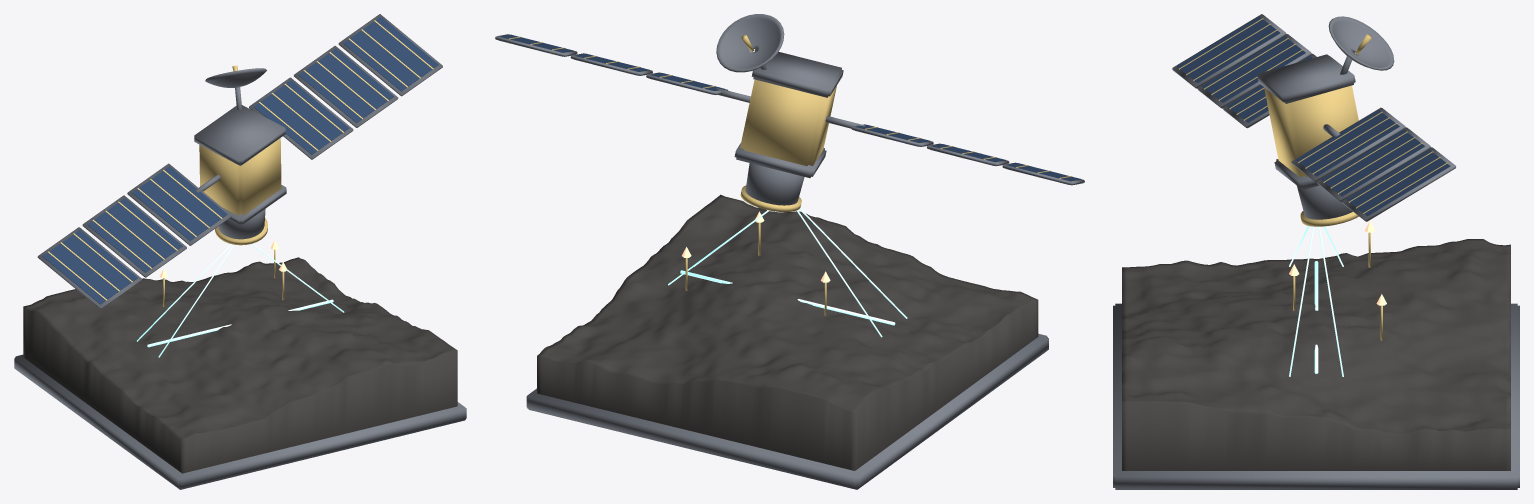
Rendered from artifact-geospatial.glb.
3 renders of one model, left to right at view 1: azimuth 30°, elevation 25°; view 2: azimuth 150°, elevation 25°; view 3: azimuth 270°, elevation 25°, orthographic. The views are drawn at different scales.
Parts seen in each view (by area): view 1: Basalt_Terrain, Terrain_Base, Sat_Bus_Core, Solar_Cells_+1_1, Solar_Cells_-1_1, Solar_Cells_+1_2, Solar_Cells_-1_2, Solar_Cells_-1_0, Solar_Cells_+1_0, Sat_Bus_UpperDeck, Solar_Frame_+1_1, Solar_Frame_+1_2 (+7 smaller); view 2: Basalt_Terrain, Terrain_Base, Sat_Bus_Core, Sat_Dish, Sat_Bus_UpperDeck, Sat_Camera_Barrel, Sat_Bus_LowerDeck; view 3: Basalt_Terrain, Terrain_Base, Sat_Bus_Core, Sat_Bus_UpperDeck, Solar_Cells_-1_2, Solar_Cells_+1_1, Solar_Cells_+1_2, Solar_Cells_+1_0, Solar_Cells_-1_1, Sat_Dish, Sat_Camera_Barrel, Solar_Frame_+1_2 (+7 smaller).
Boxes of the visible parts, box(x1,y1,x2,y2) form: Basalt_Terrain: box(23, 257, 457, 473); Terrain_Base: box(14, 354, 466, 489); Sat_Bus_Core: box(199, 138, 281, 215); Solar_Cells_+1_1: box(298, 48, 393, 122); Solar_Cells_-1_1: box(87, 198, 182, 272); Solar_Cells_+1_2: box(343, 17, 438, 91); Solar_Cells_-1_2: box(42, 230, 137, 304); Solar_Cells_-1_0: box(132, 166, 227, 240); Solar_Cells_+1_0: box(254, 80, 349, 154); Sat_Bus_UpperDeck: box(194, 105, 285, 165); Solar_Frame_+1_1: box(293, 46, 398, 127); Solar_Frame_+1_2: box(338, 14, 442, 96); Basalt_Terrain: box(537, 194, 1038, 470); Terrain_Base: box(526, 333, 1048, 489); Sat_Bus_Core: box(740, 79, 836, 166); Sat_Dish: box(716, 14, 784, 72); Sat_Bus_UpperDeck: box(751, 52, 843, 97); Sat_Camera_Barrel: box(745, 163, 804, 205); Sat_Bus_LowerDeck: box(734, 143, 826, 177); Basalt_Terrain: box(1122, 239, 1510, 470); Terrain_Base: box(1113, 303, 1519, 489); Sat_Bus_Core: box(1264, 85, 1358, 176); Sat_Bus_UpperDeck: box(1257, 54, 1355, 103); Solar_Cells_-1_2: box(1176, 16, 1280, 82); Solar_Cells_+1_1: box(1321, 129, 1424, 196); Solar_Cells_+1_2: box(1346, 149, 1450, 216); Solar_Cells_+1_0: box(1296, 110, 1399, 176); Solar_Cells_-1_1: box(1201, 36, 1305, 102); Sat_Dish: box(1328, 16, 1394, 70); Sat_Camera_Barrel: box(1297, 185, 1352, 219); Solar_Frame_+1_2: box(1342, 147, 1455, 221).
Bounding box in the file's own units: 4.26 × 2.89 × 2.74.
